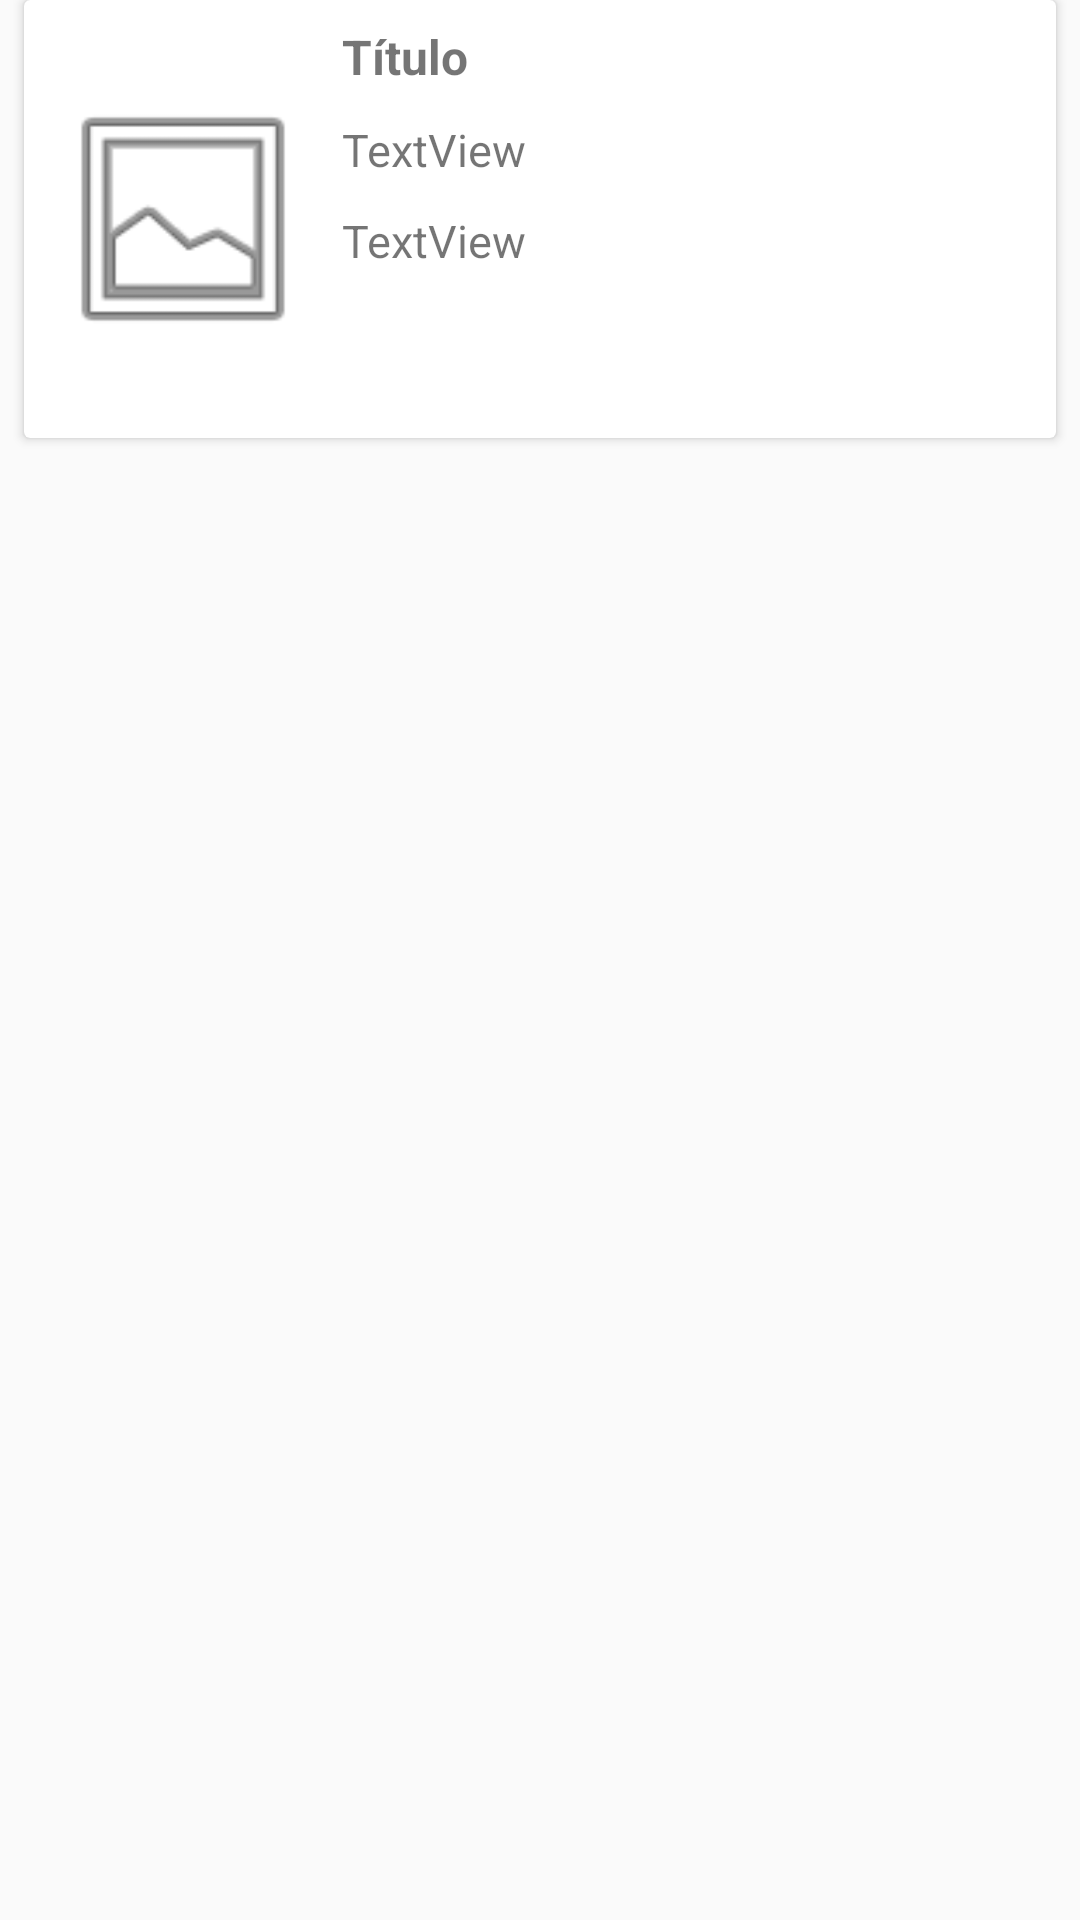

Named icons in this screenshot (1080×1920) and their centers, [x,y]:
gallery: [183,219]
